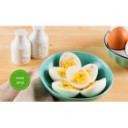begg: (68, 68, 92, 87)
